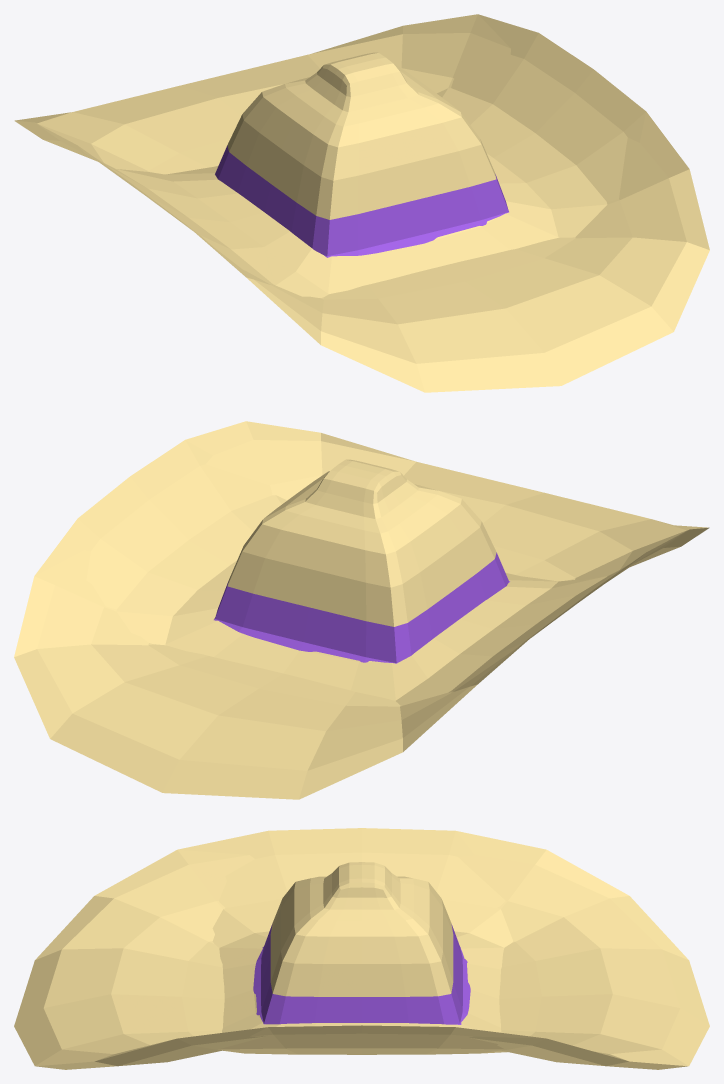
File: chapeu_6.fbx
3 renders of one model, top to bottom at view 1: azimuth 30°, elevation 25°; view 2: azimuth 150°, elevation 25°; view 3: azimuth 270°, elevation 25°, orthographic. The views are drawn at different scales.
Parts seen in each view (by area): view 1: chapeu 6; view 2: chapeu 6; view 3: chapeu 6.
Boxes of the visible parts, x1,y1,x2,y2 form: chapeu 6: (14, 14, 709, 392); chapeu 6: (14, 421, 709, 799); chapeu 6: (14, 828, 709, 1069).
Size of the model in its own units: 564 by 214 by 840.
